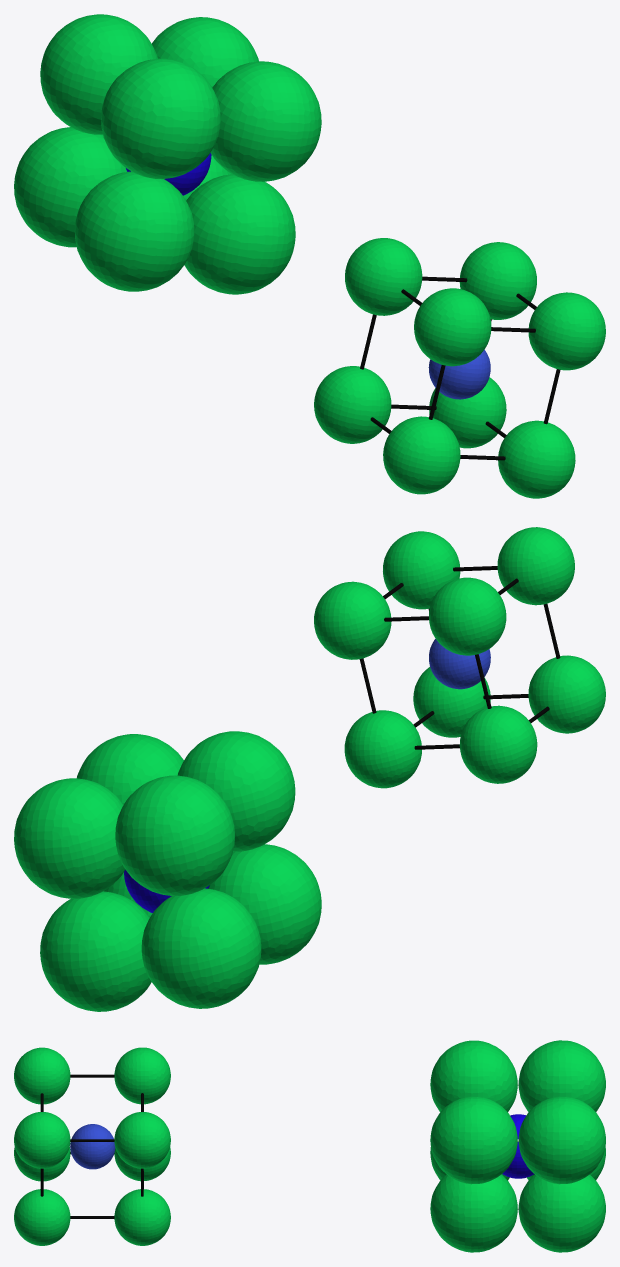
Rendered from CCCuCsCl.gltf.
The picture shows the model from 3 angles, top to bottom: view 1: azimuth 30°, elevation 25°; view 2: azimuth 150°, elevation 25°; view 3: azimuth 270°, elevation 25°; orthographic projection. The views are drawn at different scales.
Parts seen in each view (by area): view 1: Sphere.003, Sphere.007, Sphere.002, Sphere.006, Sphere, Sphere.004, Sphere.097_Sphere.205, Sphere.101_Sphere.209, Sphere.096_Sphere.204, Sphere.100_Sphere.208, Sphere.098_Sphere.206, Sphere.009_Sphere.202 (+5 smaller); view 2: Sphere, Sphere.004, Sphere.001, Sphere.005, Sphere.003, Sphere.007, Sphere.009_Sphere.202, Sphere.098_Sphere.206, Sphere.099_Sphere.207, Sphere.095_Sphere.203, Sphere.097_Sphere.205, Sphere.101_Sphere.209 (+5 smaller); view 3: Sphere.002, Sphere.001, Sphere.005, Sphere.006, Sphere, Sphere.003, Sphere.095_Sphere.203, Sphere.096_Sphere.204, Sphere.099_Sphere.207, Sphere.100_Sphere.208, Sphere.097_Sphere.205, Sphere.009_Sphere.202 (+4 smaller).
Boxes of the visible parts, x1,y1,x2,y2 form: Sphere.003: (101, 58, 220, 179); Sphere.007: (74, 171, 194, 291); Sphere.002: (210, 61, 321, 181); Sphere.006: (184, 174, 295, 294); Sphere: (40, 14, 157, 134); Sphere.004: (14, 127, 127, 247); Sphere.097_Sphere.205: (414, 288, 491, 366); Sphere.101_Sphere.209: (383, 416, 460, 494); Sphere.096_Sphere.204: (528, 292, 605, 370); Sphere.100_Sphere.208: (498, 420, 575, 498); Sphere.098_Sphere.206: (314, 366, 391, 443); Sphere.009_Sphere.202: (345, 238, 422, 315); Sphere: (115, 775, 234, 895); Sphere.004: (141, 888, 261, 1008); Sphere.001: (14, 778, 125, 898); Sphere.005: (40, 891, 151, 1011); Sphere.003: (177, 731, 295, 851); Sphere.007: (208, 844, 321, 964); Sphere.009_Sphere.202: (429, 577, 506, 655); Sphere.098_Sphere.206: (459, 705, 537, 783); Sphere.099_Sphere.207: (344, 710, 421, 788); Sphere.095_Sphere.203: (314, 581, 391, 659); Sphere.097_Sphere.205: (497, 527, 574, 605); Sphere.101_Sphere.209: (528, 655, 605, 733); Sphere.002: (430, 1096, 517, 1184); Sphere.001: (518, 1096, 605, 1184); Sphere.005: (518, 1174, 605, 1252); Sphere.006: (430, 1174, 517, 1252); Sphere: (518, 1040, 605, 1111); Sphere.003: (430, 1040, 517, 1112); Sphere.095_Sphere.203: (114, 1112, 170, 1168); Sphere.096_Sphere.204: (14, 1112, 70, 1168); Sphere.099_Sphere.207: (114, 1189, 170, 1245); Sphere.100_Sphere.208: (14, 1189, 70, 1245); Sphere.097_Sphere.205: (14, 1047, 70, 1104); Sphere.009_Sphere.202: (114, 1047, 170, 1104).
Bounding box in the file's own units: 7.65 × 7.69 × 23.29.
